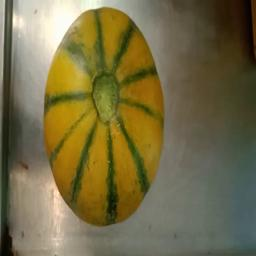Melon Fresh: (33, 6, 175, 232)
